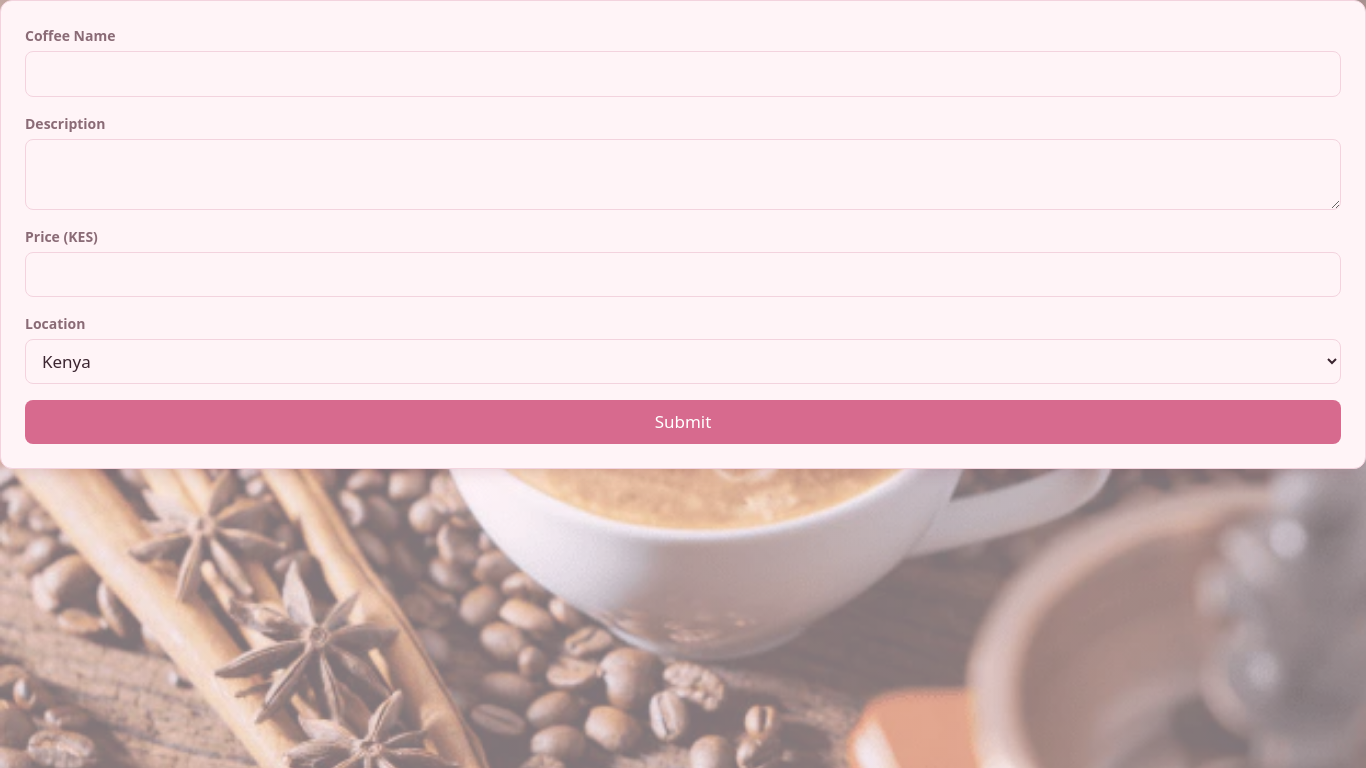
Scenario: ProductForm › shows a validation error and does not submit when invalid
Click the button "Submit" at (683, 422), box [25, 400, 1341, 444]
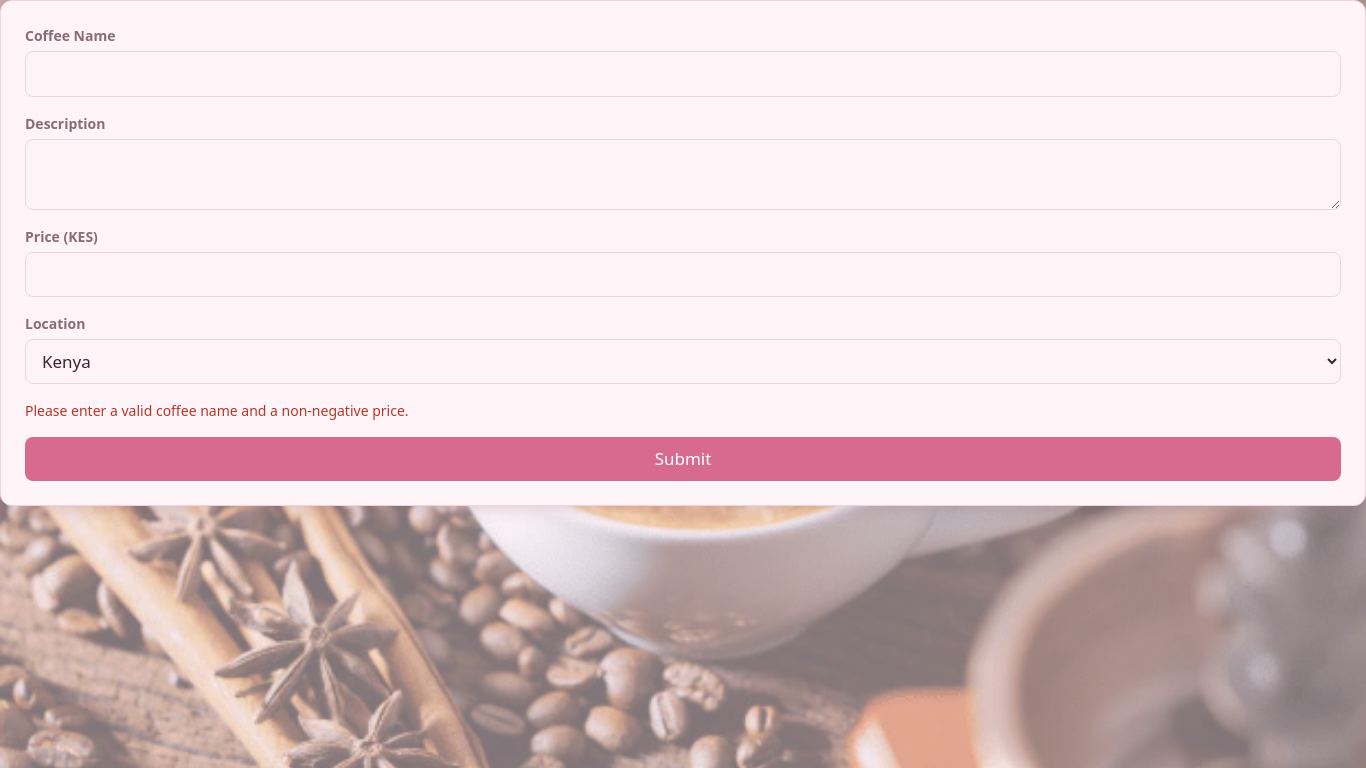
Now the message shows "valid coffee name", box [25, 401, 408, 420]
